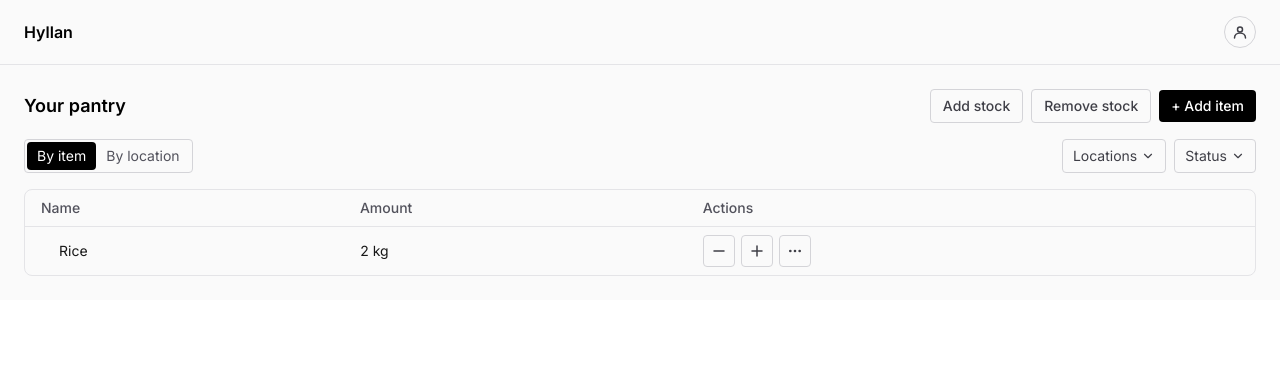
Test: SignedInHome › opens the overflow menu with plain-text Edit and Delete menu items
Expected: the menu item "Edit" is not shown
Click the button named "Actions for Rice": (795, 251) [779,235,811,267]
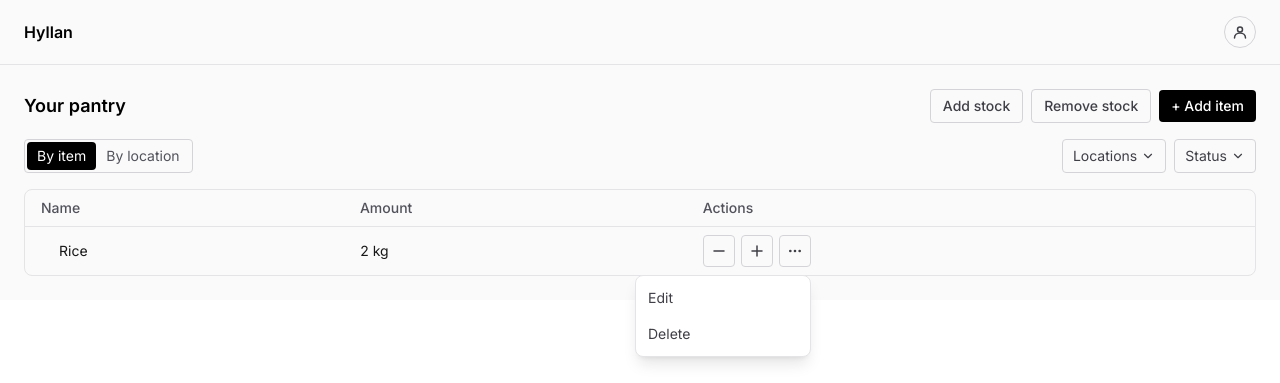
Expected: the menu item "Delete" is shown, [636,316,810,352]
